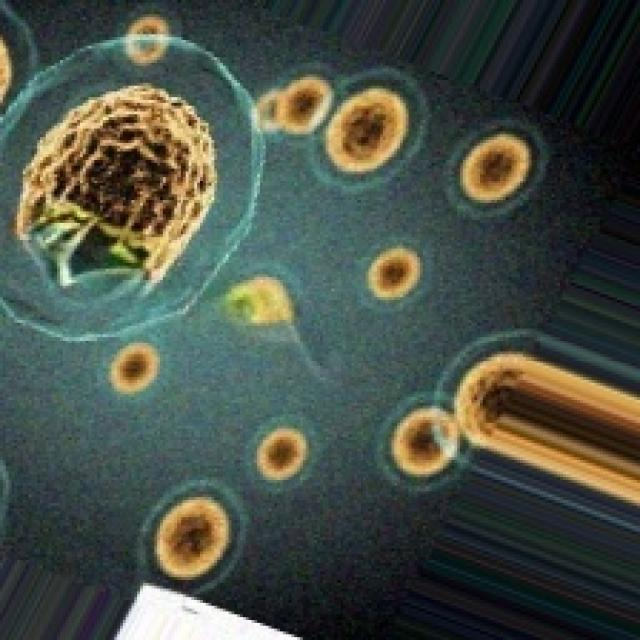Spherical_bacteria: (0, 22, 265, 355), (94, 442, 253, 627), (262, 22, 416, 195)
